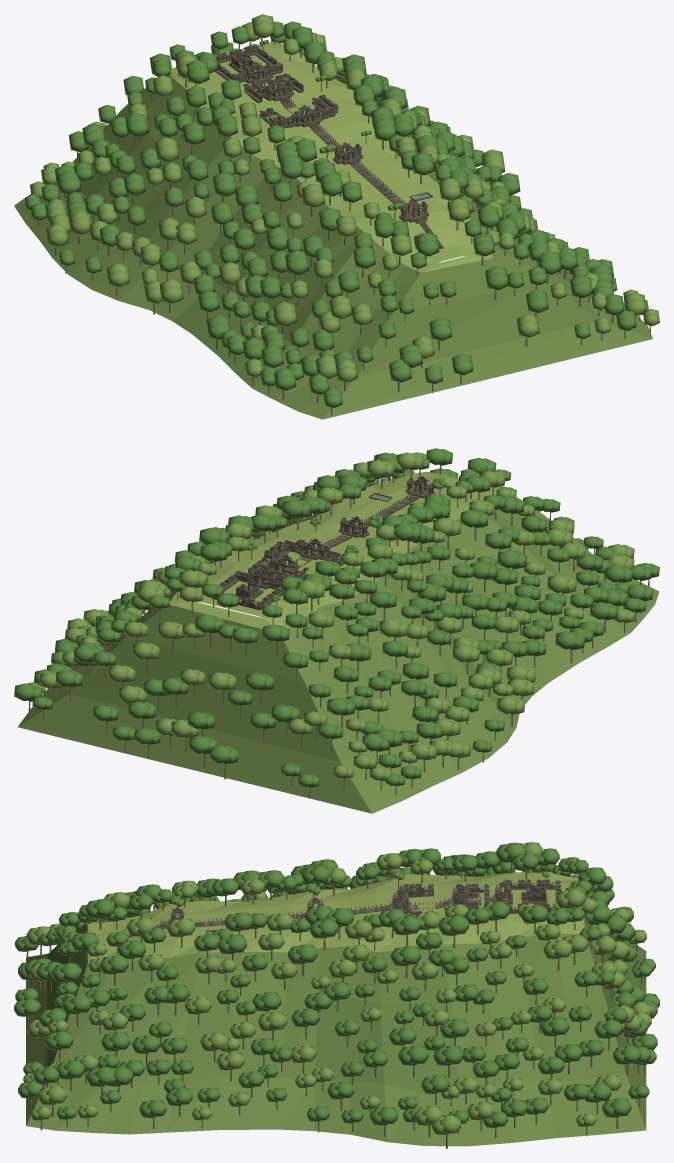
File: preah-vihear-normal.glb
3 views of the same model, one above another, from view 1: azimuth 30°, elevation 25°; view 2: azimuth 150°, elevation 25°; view 3: azimuth 270°, elevation 25° (orthographic). The views are drawn at different scales.
Visible parts, largest first — view 1: Batched | Canopy, Batched | Mountain ground, Batched | Canopy light, Batched | Dry plateau, Batched | Sandstone 1, Batched | Bark, Batched | Sandstone 2, Batched | Sandstone 0, Batched | Sandstone 3; view 2: Batched | Mountain ground, Batched | Canopy, Batched | Canopy light, Batched | Dry plateau, Batched | Bark, Batched | Sandstone 1, Batched | Sandstone 2, Batched | Sandstone 0, Batched | Sandstone 3; view 3: Batched | Mountain ground, Batched | Canopy, Batched | Canopy light, Batched | Dry plateau, Batched | Bark, Batched | Sandstone 1, Batched | Sandstone 2, Batched | Sandstone 0, Batched | Sandstone 3.
Boxes of the visible parts, bbox=[...] form: Batched | Canopy: bbox=[25, 21, 648, 407]; Batched | Mountain ground: bbox=[14, 55, 652, 419]; Batched | Canopy light: bbox=[30, 14, 659, 382]; Batched | Dry plateau: bbox=[169, 41, 493, 272]; Batched | Sandstone 1: bbox=[215, 46, 443, 249]; Batched | Bark: bbox=[31, 37, 650, 415]; Batched | Sandstone 2: bbox=[216, 47, 441, 245]; Batched | Sandstone 0: bbox=[215, 45, 442, 247]; Batched | Sandstone 3: bbox=[217, 45, 443, 248]; Batched | Mountain ground: bbox=[17, 487, 659, 813]; Batched | Canopy: bbox=[14, 448, 659, 787]; Batched | Canopy light: bbox=[27, 452, 634, 780]; Batched | Dry plateau: bbox=[169, 471, 500, 629]; Batched | Bark: bbox=[28, 465, 649, 798]; Batched | Sandstone 1: bbox=[211, 477, 450, 609]; Batched | Sandstone 2: bbox=[220, 476, 448, 607]; Batched | Sandstone 0: bbox=[211, 476, 450, 610]; Batched | Sandstone 3: bbox=[218, 485, 449, 607]; Batched | Mountain ground: bbox=[26, 890, 646, 1146]; Batched | Canopy: bbox=[14, 842, 659, 1128]; Batched | Canopy light: bbox=[23, 842, 651, 1135]; Batched | Dry plateau: bbox=[87, 872, 584, 963]; Batched | Bark: bbox=[26, 862, 646, 1148]; Batched | Sandstone 1: bbox=[127, 879, 560, 937]; Batched | Sandstone 2: bbox=[128, 879, 560, 937]; Batched | Sandstone 0: bbox=[158, 879, 560, 927]; Batched | Sandstone 3: bbox=[131, 879, 560, 937].
Bounding box in the file's own units: 13.77 × 5.09 × 17.1.
10 materials, 4 textured.
